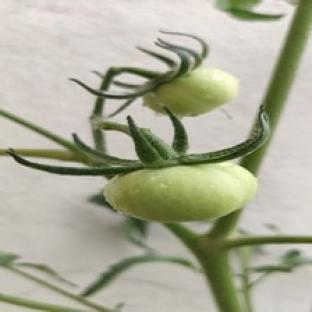Tomato: (105, 162, 257, 222), (144, 67, 239, 116)
